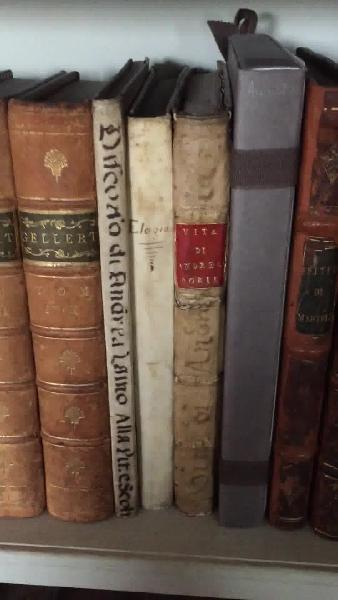Aa6-24: (88, 96, 149, 525)
Aa6-25: (129, 113, 183, 521)
Aa6-26: (177, 111, 232, 515)
Aa6-27: (220, 53, 297, 529)
